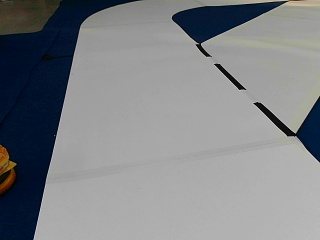burger: (0, 142, 16, 196)
